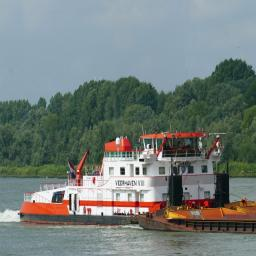tugboat: (18, 129, 237, 231)
